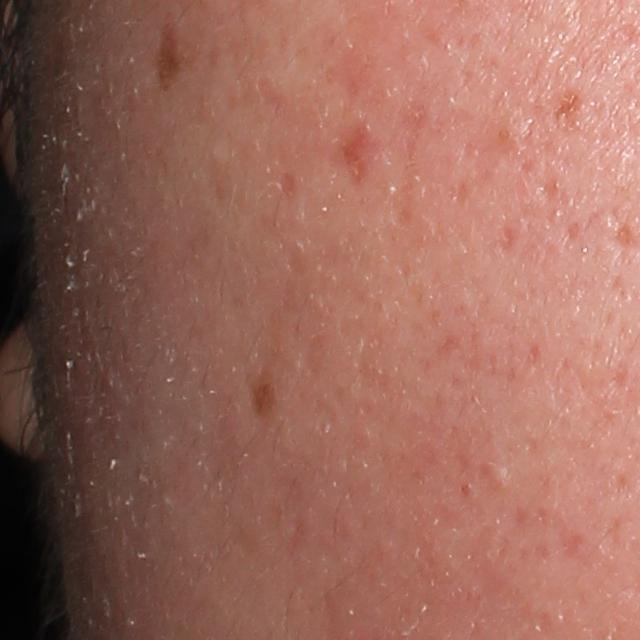atrophic_scar: (332, 121, 370, 191), (276, 168, 302, 204)
comedo: (478, 456, 516, 488)
nevus: (245, 375, 273, 417)
